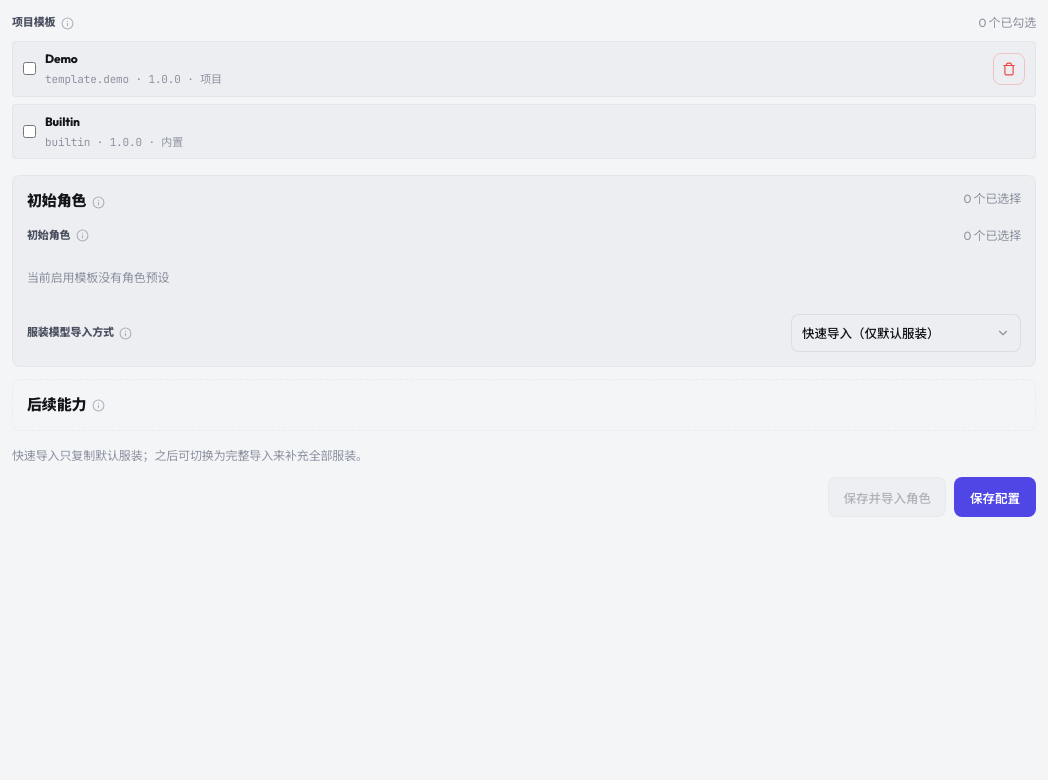
template settings panel capability surface › offers deletion for external packages, reports failure, and keeps the package selectable
Click the button named "删除模板包 Demo" at (1009, 69), box [993,53,1025,85]
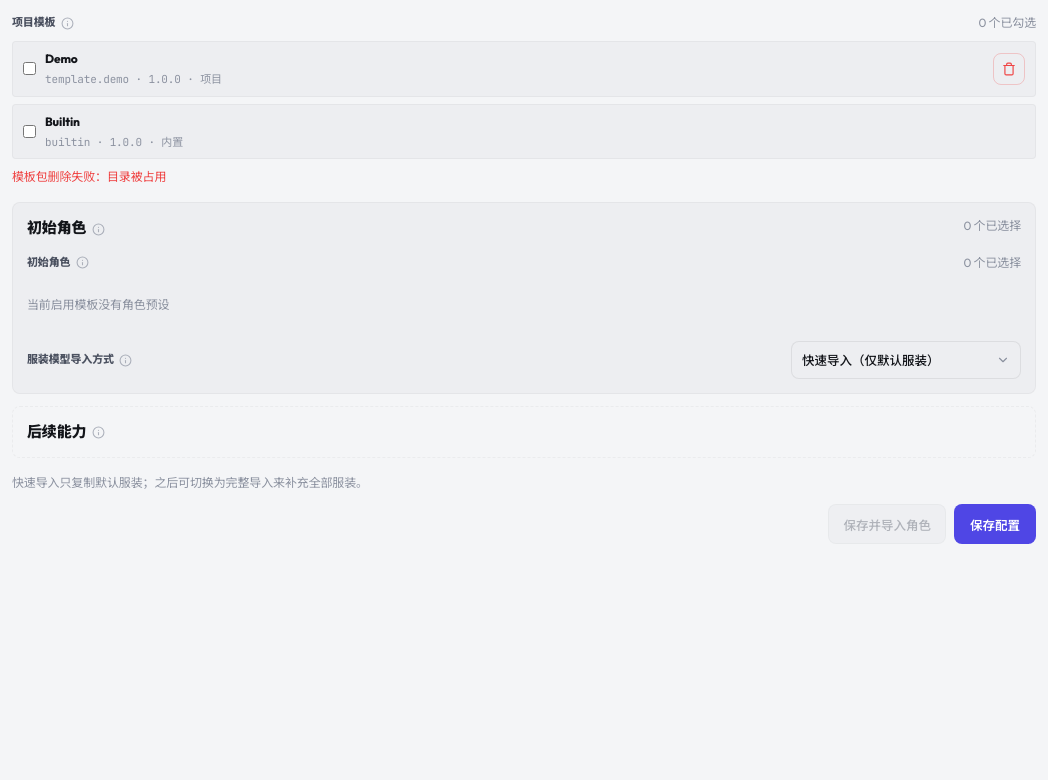
Check: the checkbox named "启用模板 Demo" is enabled, box [23,62,36,75]
Check: the message shows "目录被占用", box [12,169,166,184]
